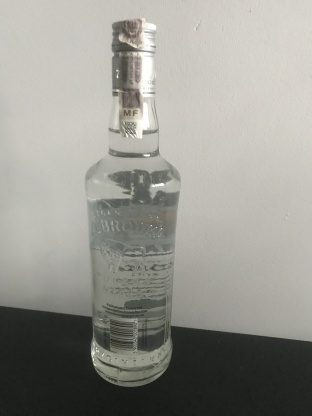nakretka: (110, 15, 158, 98)
